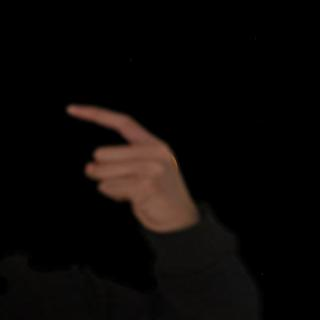WHY: (61, 97, 196, 228)
